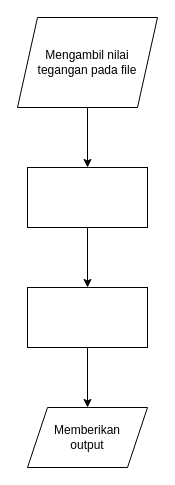
The diagram is 175 pixels wide and 485 high, and some of its shapes have lost their labels. The centre of each missing label's shape, as x and y in pixels:
"Melakukan perhitungan massa dengan rumus yang ada" goes at point 87,197.
"Menghitung kecepatan dengan rumus yang ada" goes at point 87,317.
